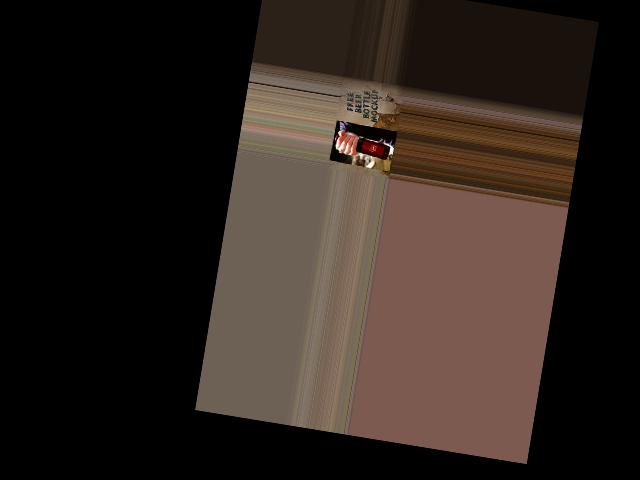beer: (333, 134, 391, 160)
